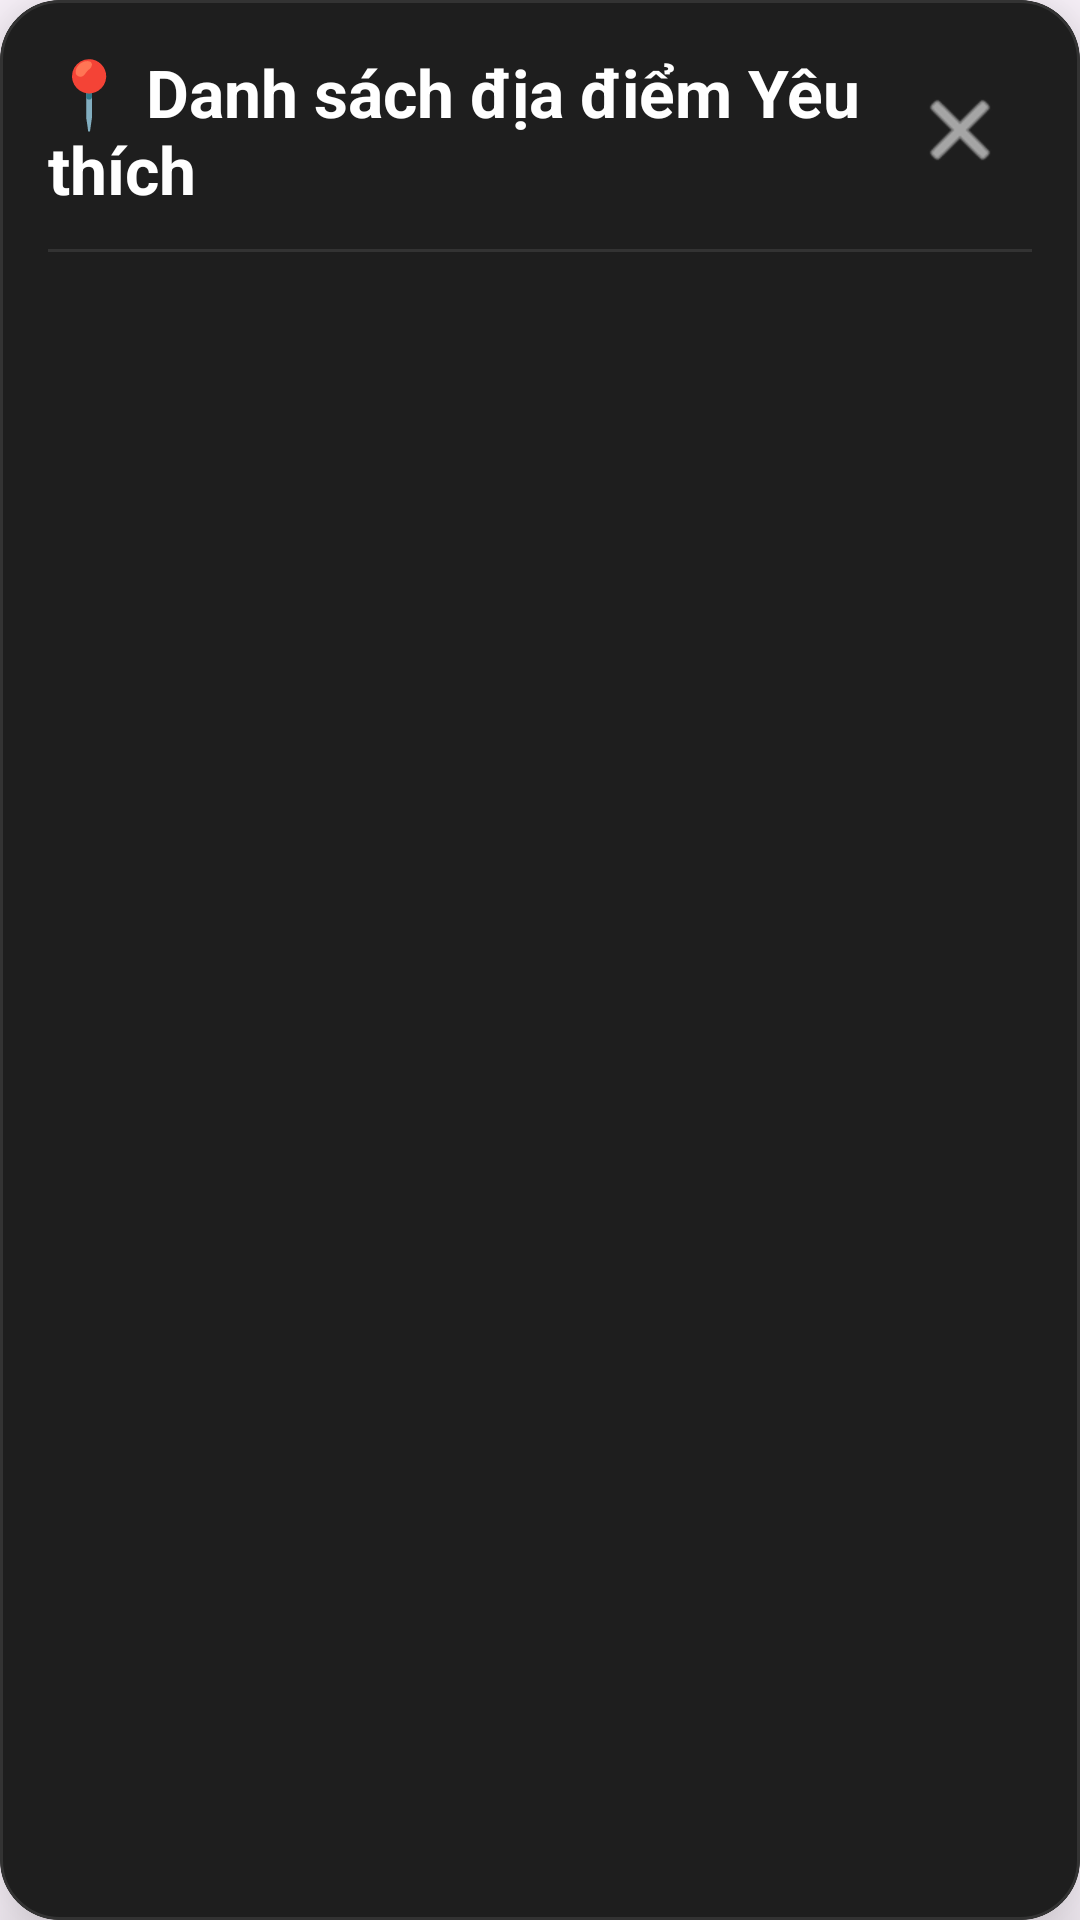

Point at icon controls on the screen. Image size 1080*1920, points as (x=x, y=y).
Đóng popup: (x=960, y=130)
